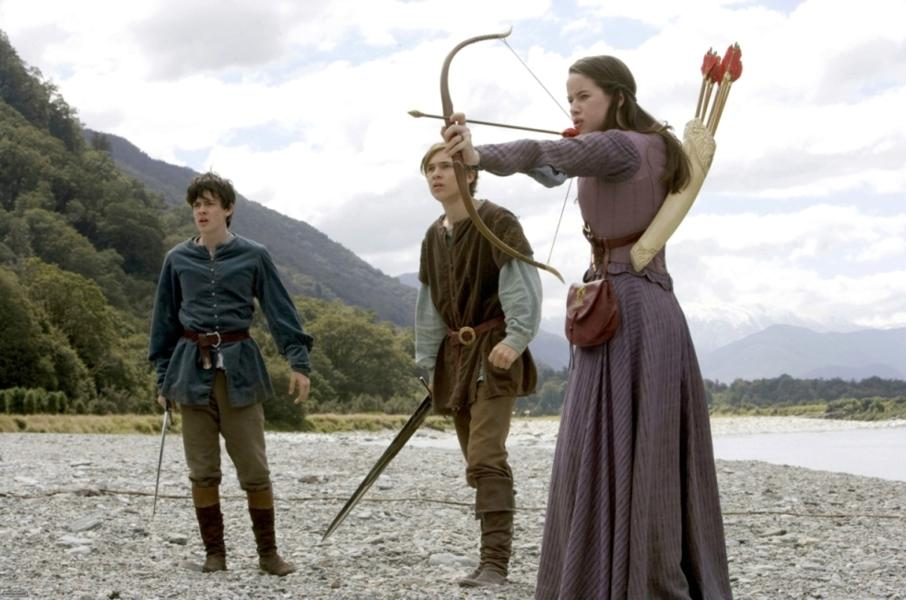person: (442, 57, 740, 600)
